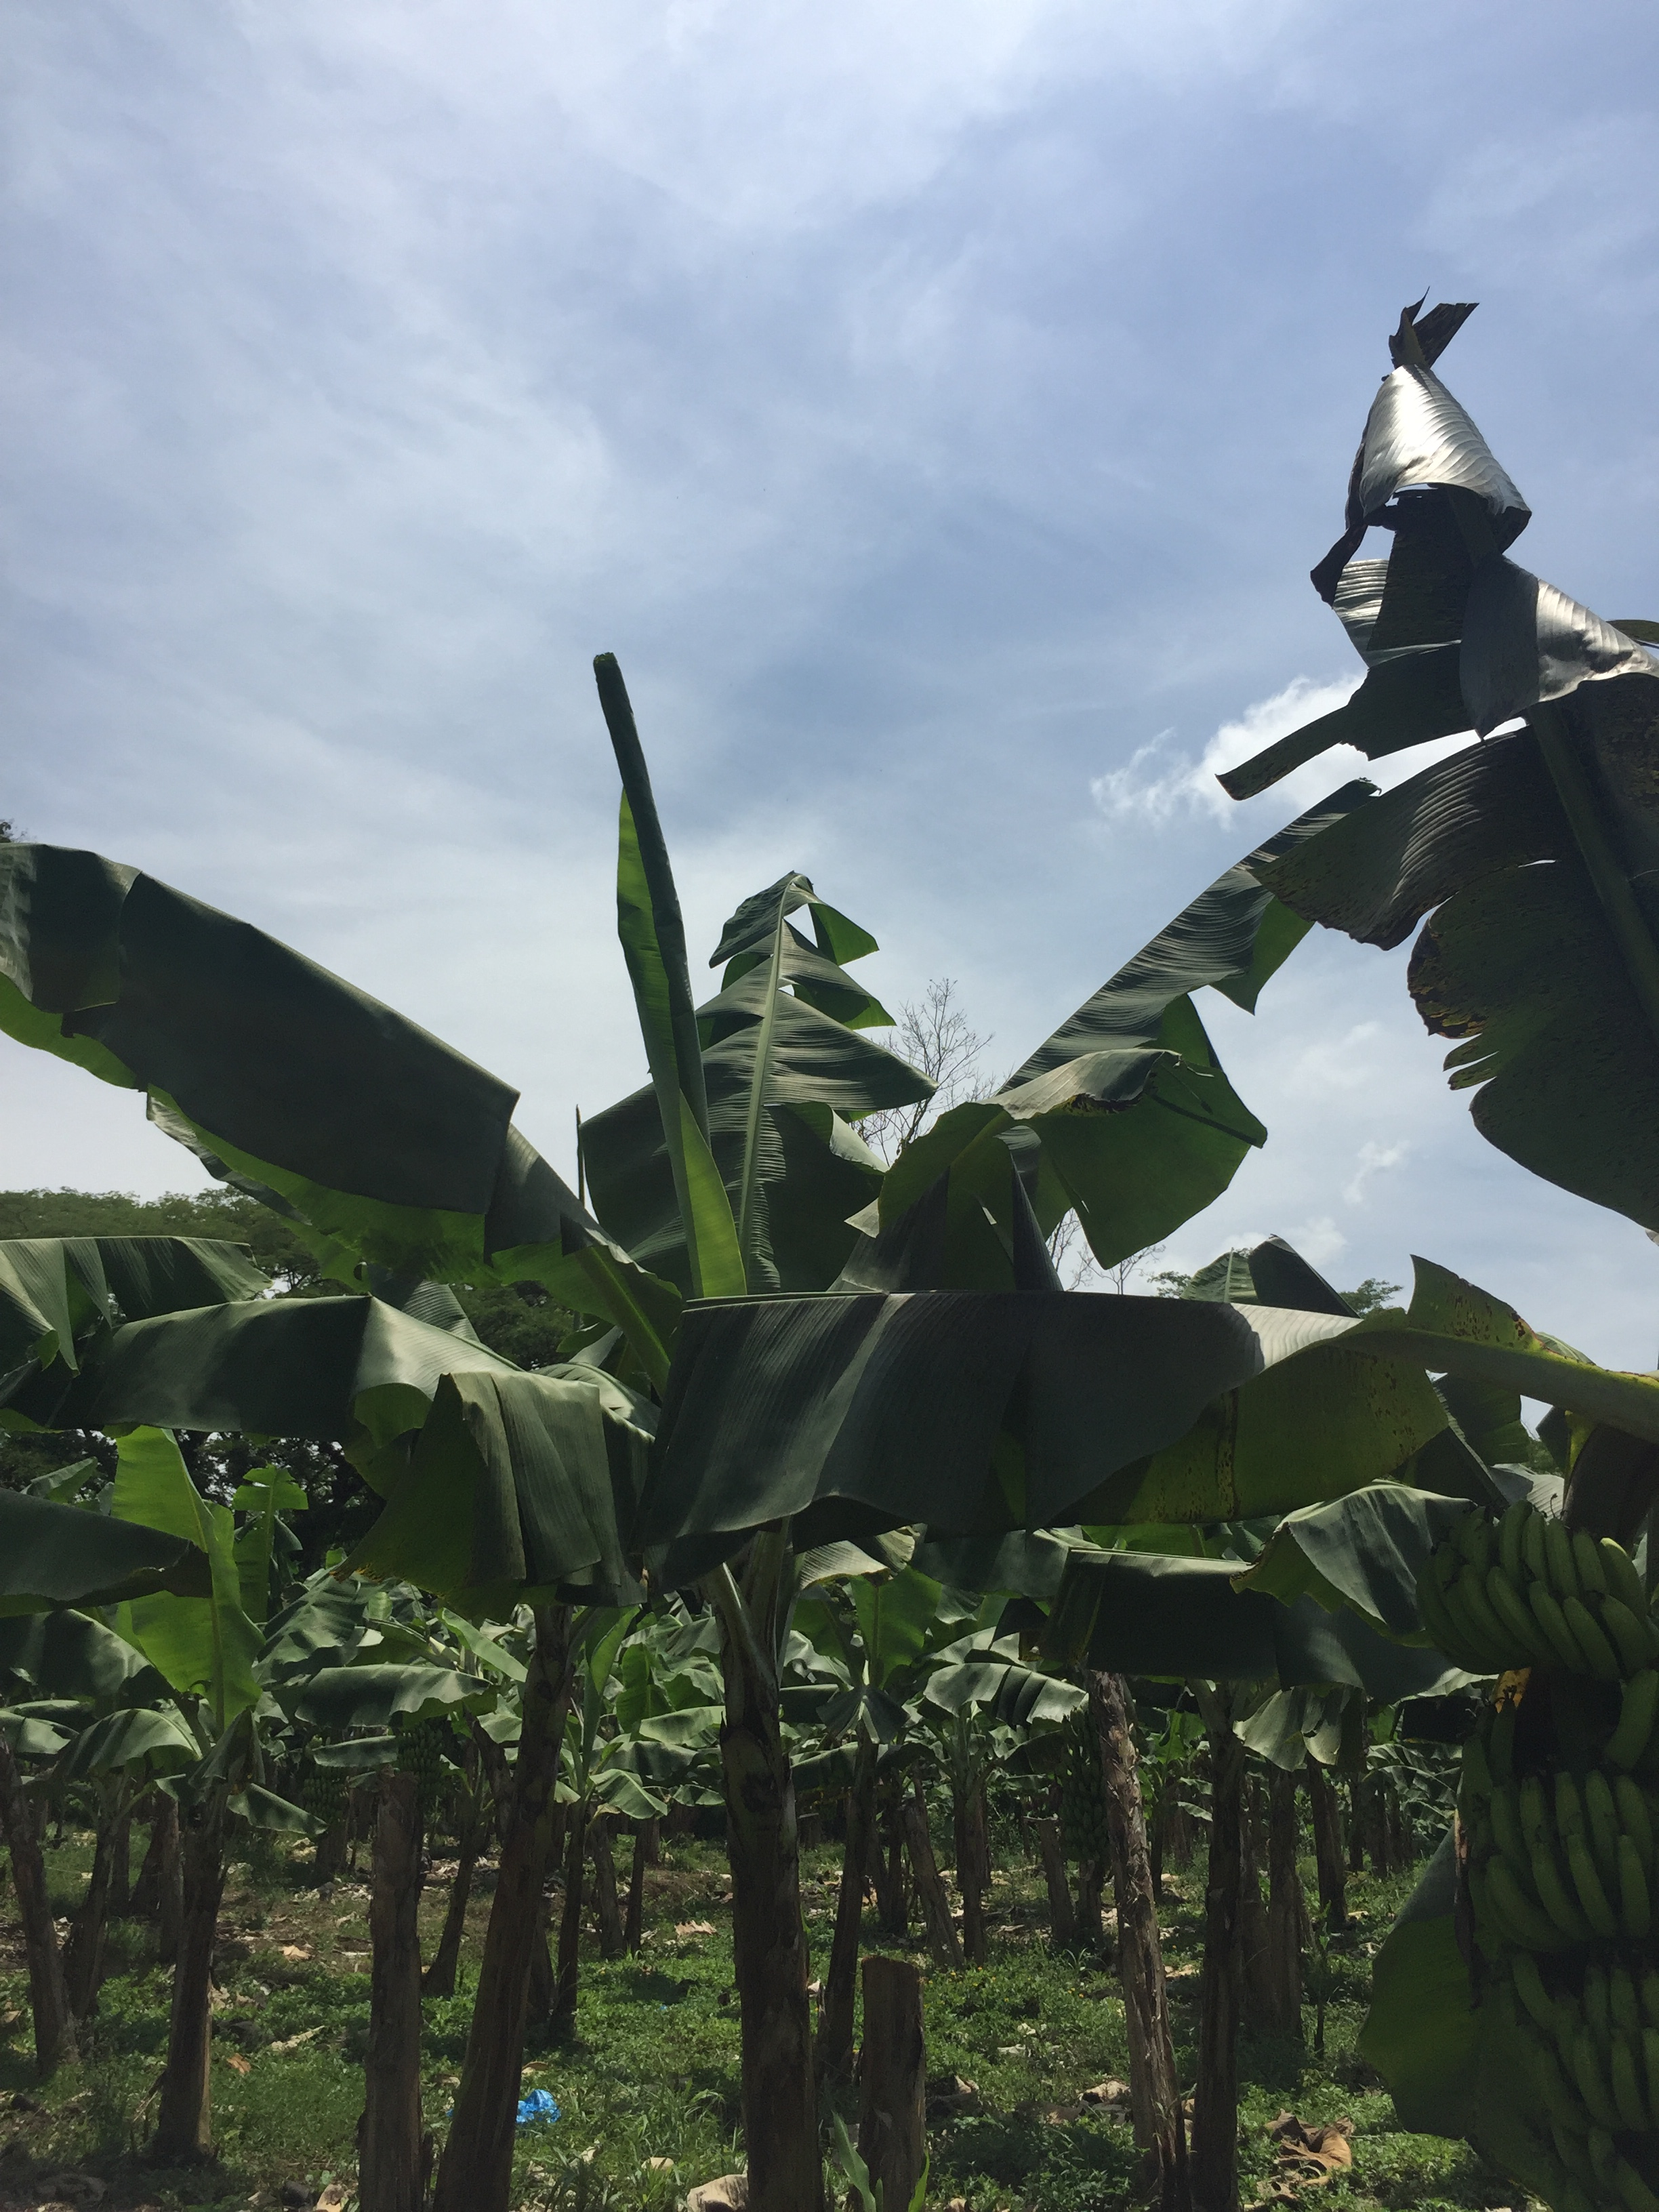candleleafs: (594, 653, 748, 1301)
